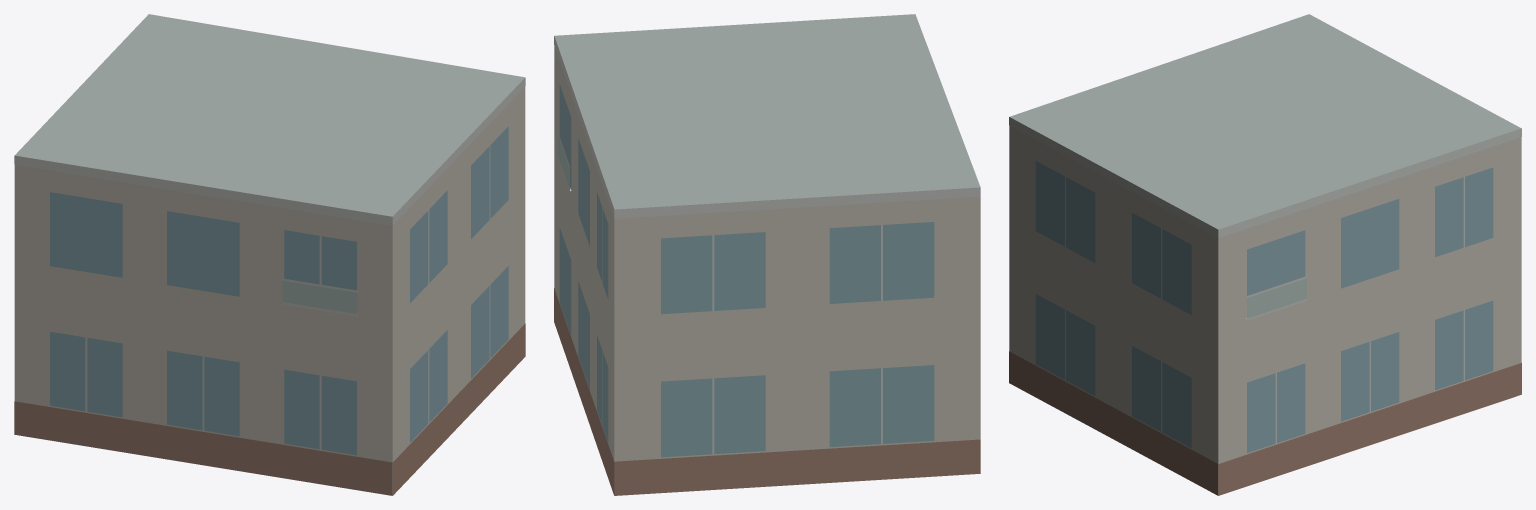
Rendered from survey-upis-32937688.glb.
The picture shows the model from 3 angles, left to right: view 1: azimuth 30°, elevation 25°; view 2: azimuth 150°, elevation 25°; view 3: azimuth 270°, elevation 25°; orthographic projection. The views are drawn at different scales.
Parts seen in each view (by area): view 1: survey-upis-32937688.tmp; view 2: survey-upis-32937688.tmp; view 3: survey-upis-32937688.tmp.
Boxes of the visible parts, box(x1,y1,x2,y2) form: survey-upis-32937688.tmp: box(14, 14, 525, 495); survey-upis-32937688.tmp: box(554, 14, 980, 495); survey-upis-32937688.tmp: box(1009, 14, 1521, 495).
Bounding box in the file's own units: 13.21 × 7.6 × 13.27.
